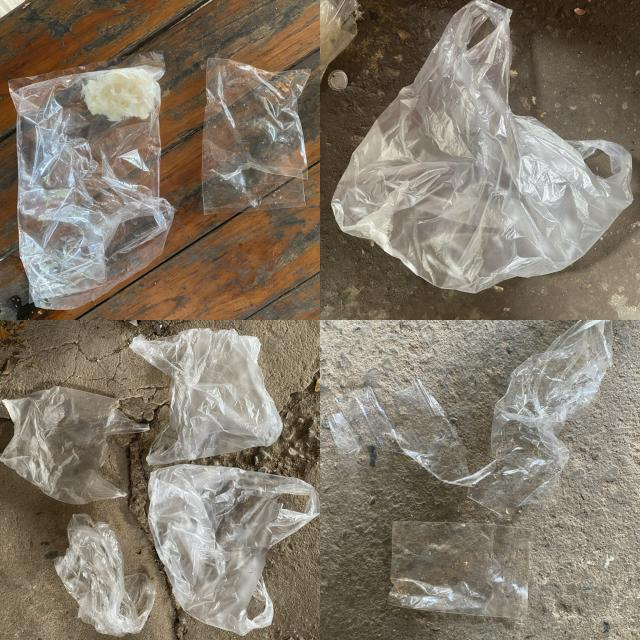Single-layer Plastic: (331, 0, 632, 292), (330, 320, 612, 518), (9, 51, 174, 310), (148, 464, 319, 635), (130, 329, 281, 465), (0, 386, 149, 504), (202, 59, 310, 214), (388, 521, 534, 620), (54, 514, 156, 636)
